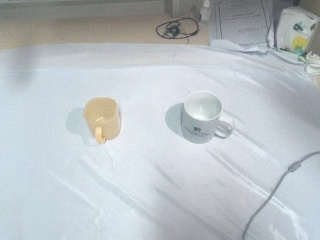cup: (163, 89, 232, 145), (83, 96, 121, 143)
